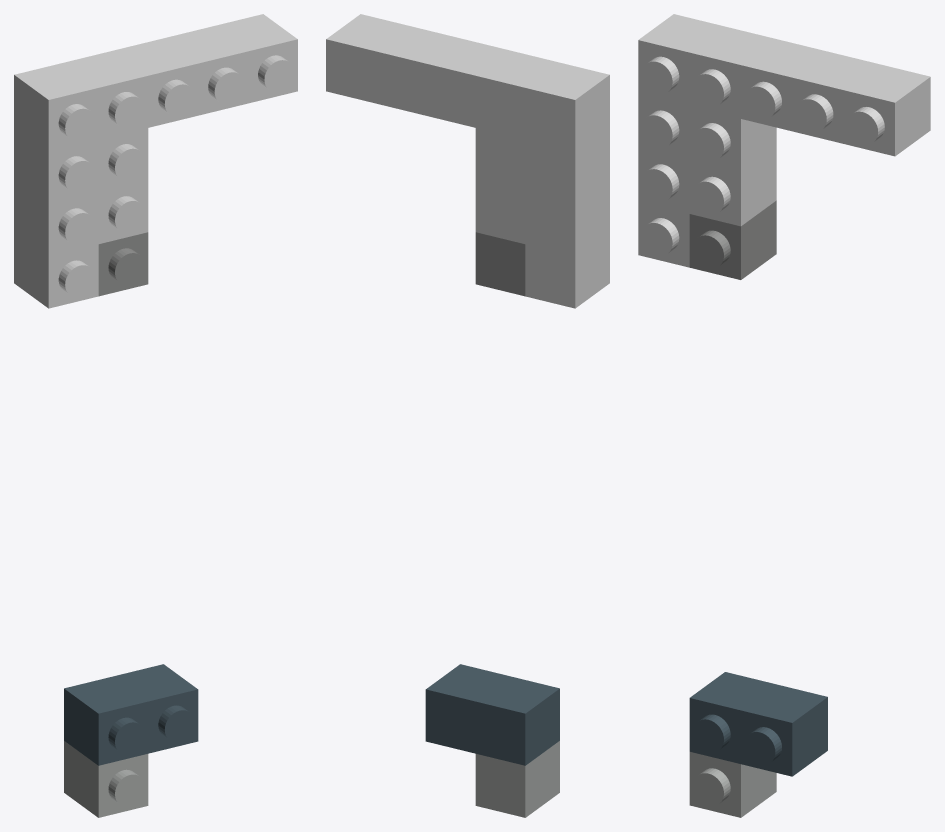
The model's file is current.glb.
3 renders of one model, left to right at view 1: azimuth 30°, elevation 25°; view 2: azimuth 150°, elevation 25°; view 3: azimuth 330°, elevation 25°, orthographic. The views are drawn at different scales.
Parts seen in each view (by area): view 1: world; view 2: world; view 3: world.
Part boxes in pixels (x1=…): world: x1=14, y1=14, x2=297, y2=817; world: x1=326, y1=14, x2=609, y2=817; world: x1=638, y1=14, x2=930, y2=817.
Size of the model in its own units: 40 by 112 by 11.4.
